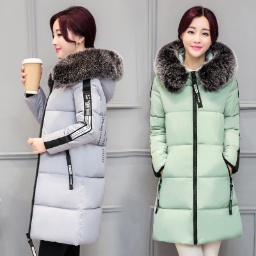face: (48, 7, 97, 57), (176, 5, 220, 60)
